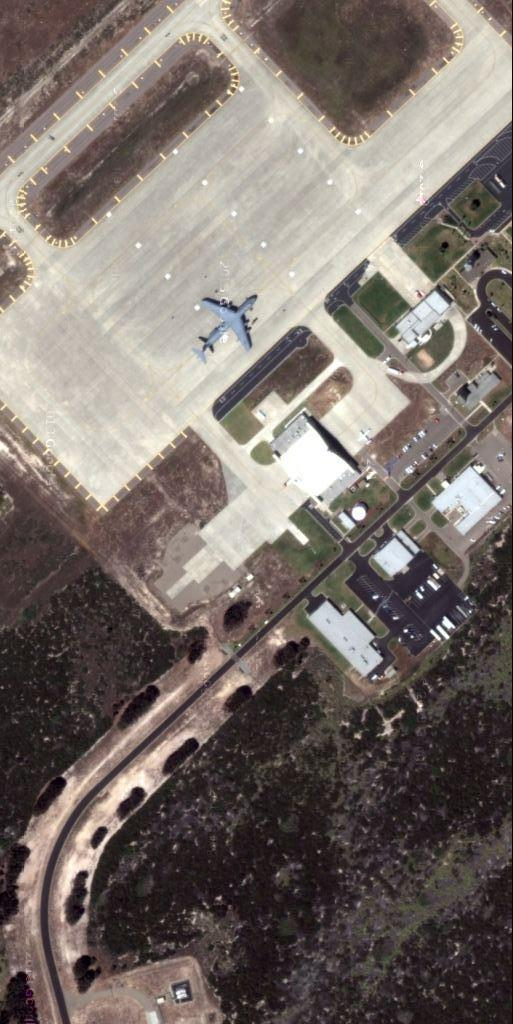KC-135: (186, 291, 261, 367)
